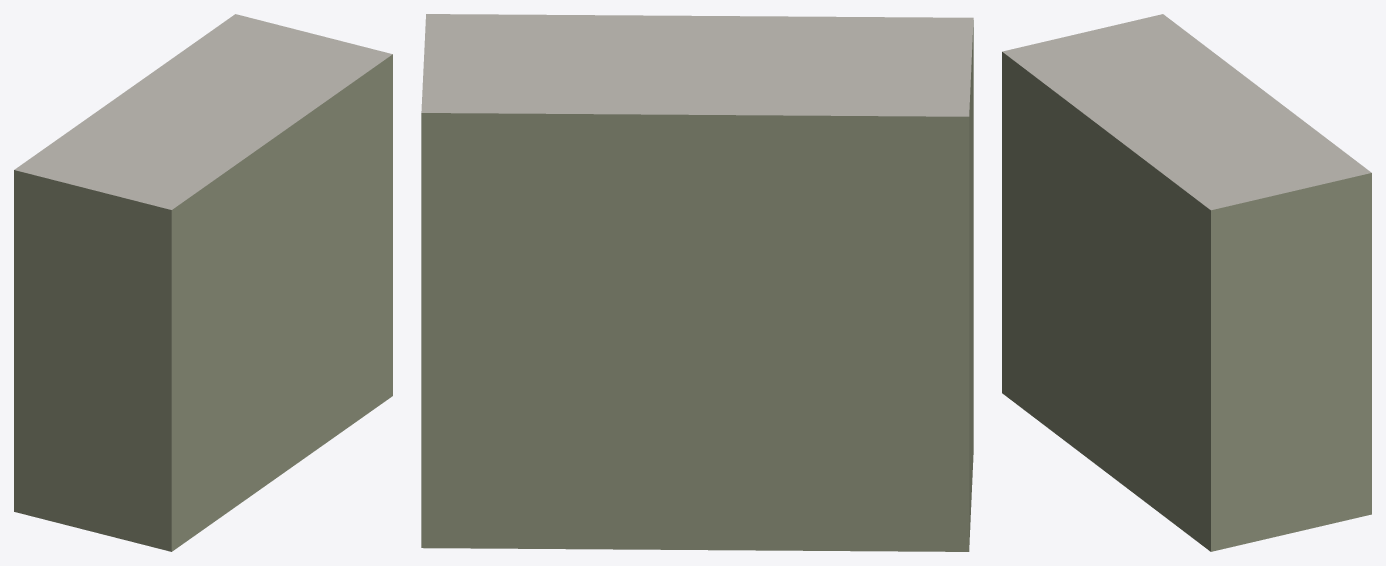
The model's file is nyc-1015257-0.glb.
3 views of the same model, side by side, from view 1: azimuth 30°, elevation 25°; view 2: azimuth 150°, elevation 25°; view 3: azimuth 270°, elevation 25° (orthographic). The views are drawn at different scales.
Parts seen in each view (by area): view 1: nyc-1015257-0; view 2: nyc-1015257-0; view 3: nyc-1015257-0.
Part boxes in pixels (x1,y1,x2,y2): nyc-1015257-0: (14, 14, 392, 551); nyc-1015257-0: (421, 14, 973, 551); nyc-1015257-0: (1002, 14, 1371, 551).
Size of the model in its own units: 18.96 by 15.38 by 15.09.
